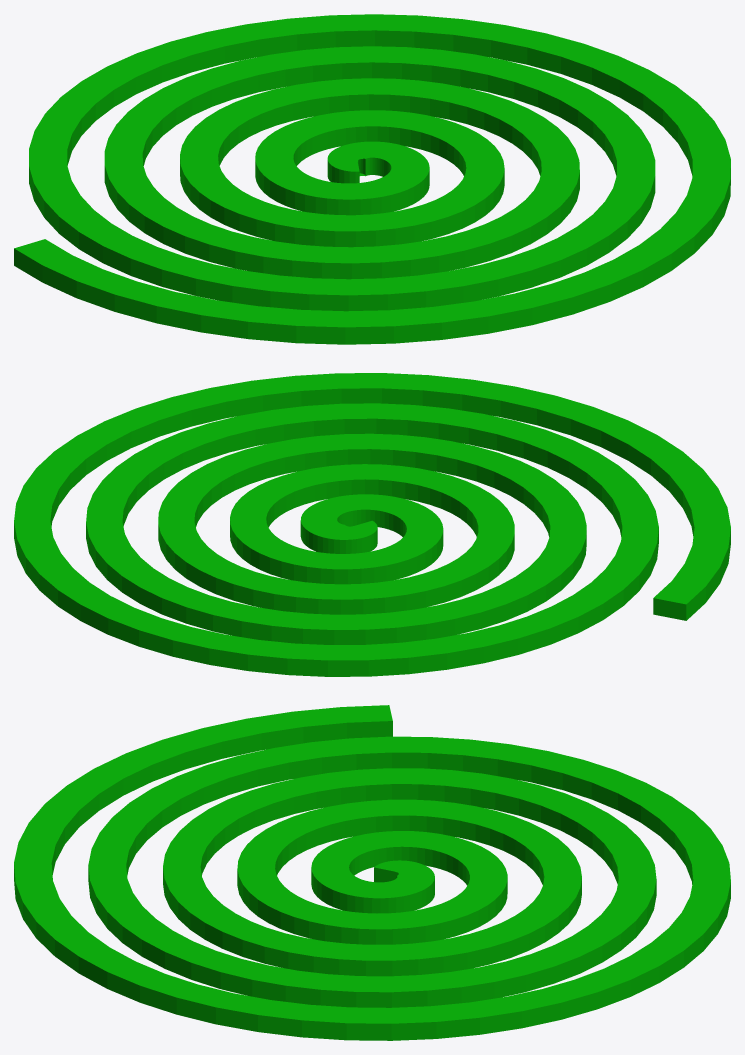
File: MosquitoCoil.glb
3 views of the same model, one above another, from view 1: azimuth 30°, elevation 25°; view 2: azimuth 150°, elevation 25°; view 3: azimuth 270°, elevation 25° (orthographic). The views are drawn at different scales.
Parts seen in each view (by area): view 1: squareTube; view 2: squareTube; view 3: squareTube.
Boxes of the visible parts, left/top/right/bottom form: squareTube: left=14, top=14, right=730, bottom=344; squareTube: left=14, top=373, right=730, bottom=676; squareTube: left=14, top=705, right=730, bottom=1040.
Bounding box in the file's own units: 2 × 0.05 × 1.9.
